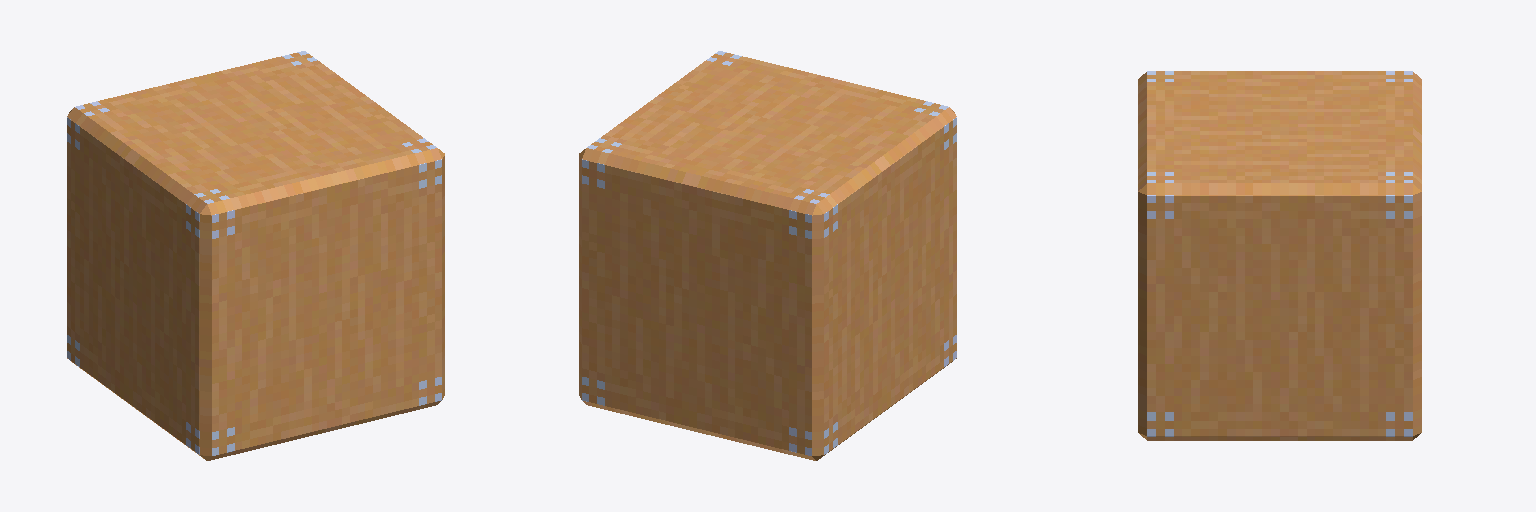
3 views of the same model, side by side, from view 1: azimuth 30°, elevation 25°; view 2: azimuth 150°, elevation 25°; view 3: azimuth 270°, elevation 25° (orthographic).
Parts seen in each view (by area): view 1: Cube.001_Cube.002; view 2: Cube.001_Cube.002; view 3: Cube.001_Cube.002.
Part boxes in pixels (x1,y1,x2,y2): Cube.001_Cube.002: (67,51,444,460); Cube.001_Cube.002: (579,51,956,460); Cube.001_Cube.002: (1138,71,1421,440).
Bounding box in the file's own units: 1 × 1 × 1.
1 materials, 1 textured.